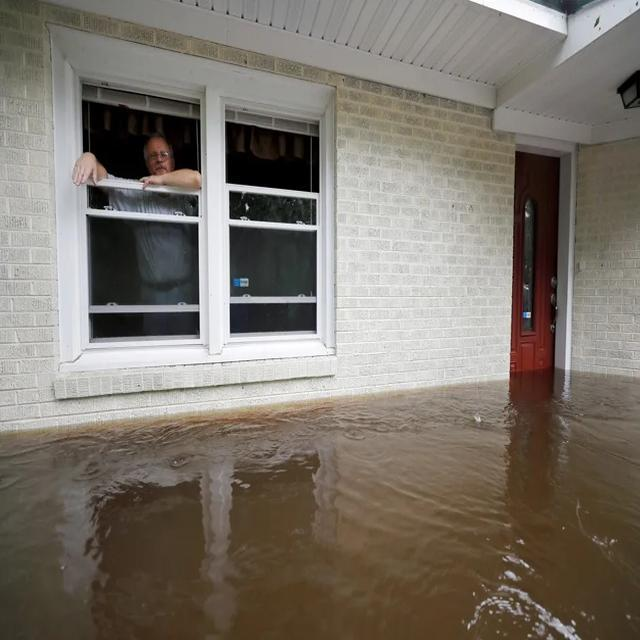Person-RiskLevel1: (57, 122, 223, 340)
